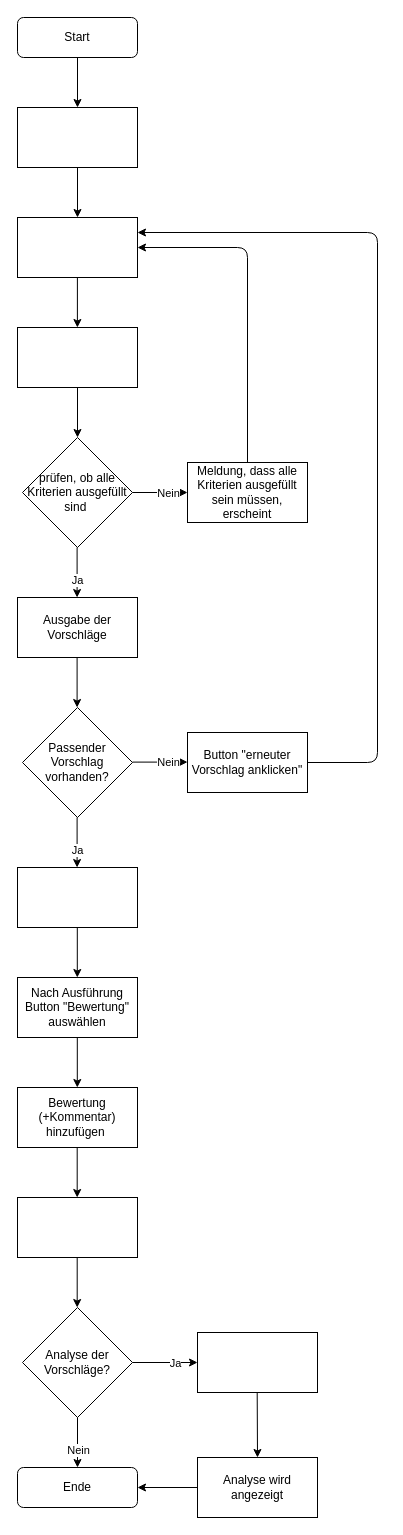
Image size: 403x1535. Some labels were removed from this diagram. The centre of each missing label's shape, as x and y in pixels:
Button "Analyse der Vorschläge" auswählen: [257,1362]
Button "Neuer Vorschlag" anklicken: [77,137]
Button "Speichern" auswählen: [77,1227]
Button "Vorschläge anzeigen" anklicken: [77,357]
Kriterien ausfüllen: [77,247]
Vorschlag auswählen: [77,897]
